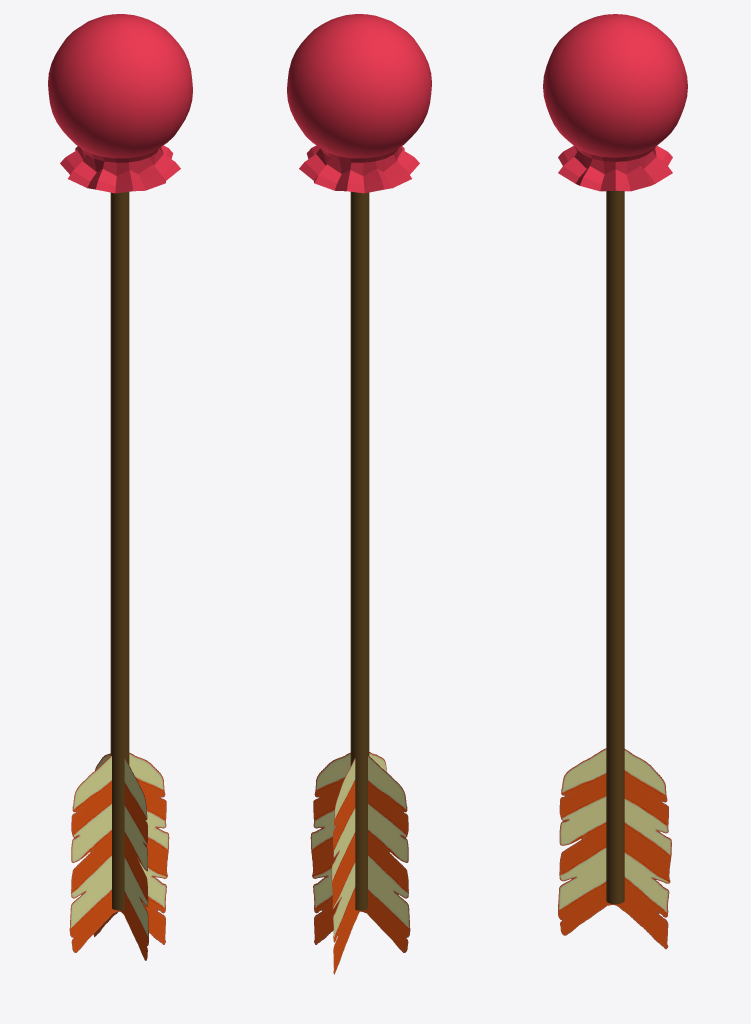
Rendered from Bomb_arrow.fbx.
The picture shows the model from 3 angles, left to right: view 1: azimuth 30°, elevation 25°; view 2: azimuth 150°, elevation 25°; view 3: azimuth 270°, elevation 25°; orthographic projection.
Visible parts, largest first — view 1: bomb, stick2, pPlane5, pPlane6; view 2: bomb, stick2, pPlane5, pPlane6; view 3: bomb, pPlane6, stick2.
Part boxes in pixels (bbox=[...]): bomb: bbox=[48, 14, 192, 193]; stick2: bbox=[110, 192, 129, 910]; pPlane5: bbox=[69, 752, 169, 952]; pPlane6: bbox=[93, 753, 148, 960]; bomb: bbox=[287, 14, 431, 193]; stick2: bbox=[350, 192, 369, 910]; pPlane5: bbox=[310, 752, 410, 952]; pPlane6: bbox=[331, 752, 386, 974]; bomb: bbox=[543, 14, 687, 191]; pPlane6: bbox=[558, 748, 671, 949]; stick2: bbox=[606, 190, 624, 904].
Bounding box in the file's own units: 25.25 × 108 × 25.25.
